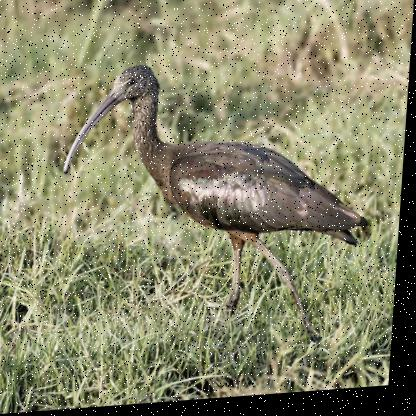Burung: (51, 53, 387, 363)
